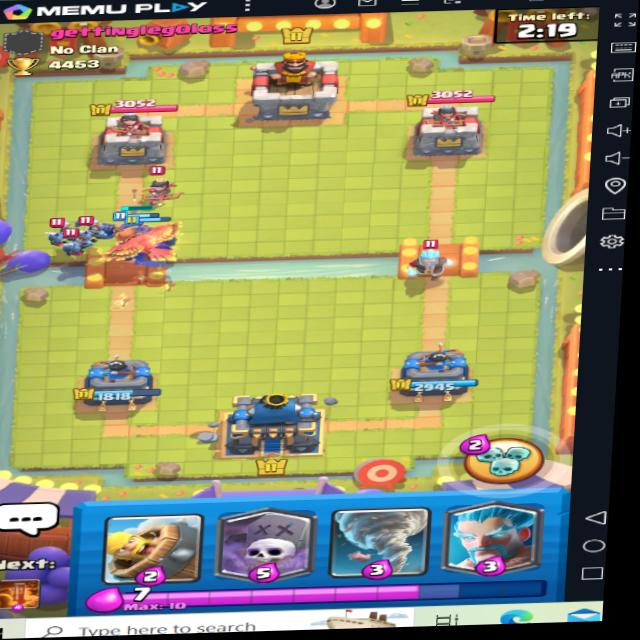ice-wizard: (402, 240, 465, 283)
minion: (49, 229, 98, 259), (41, 211, 80, 243), (77, 210, 116, 241)
princess: (132, 164, 190, 203)
